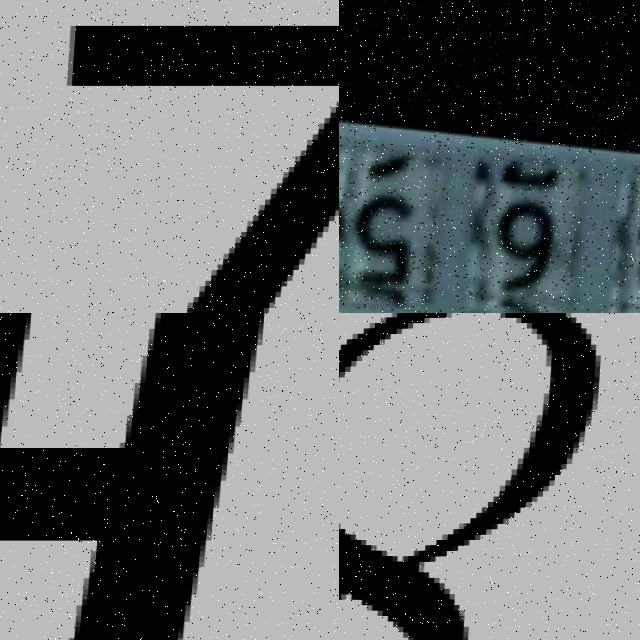5: (345, 189, 433, 303)
6: (482, 198, 576, 302)
8: (339, 313, 610, 640)
H: (0, 313, 298, 640)
Z: (42, 25, 339, 313)
